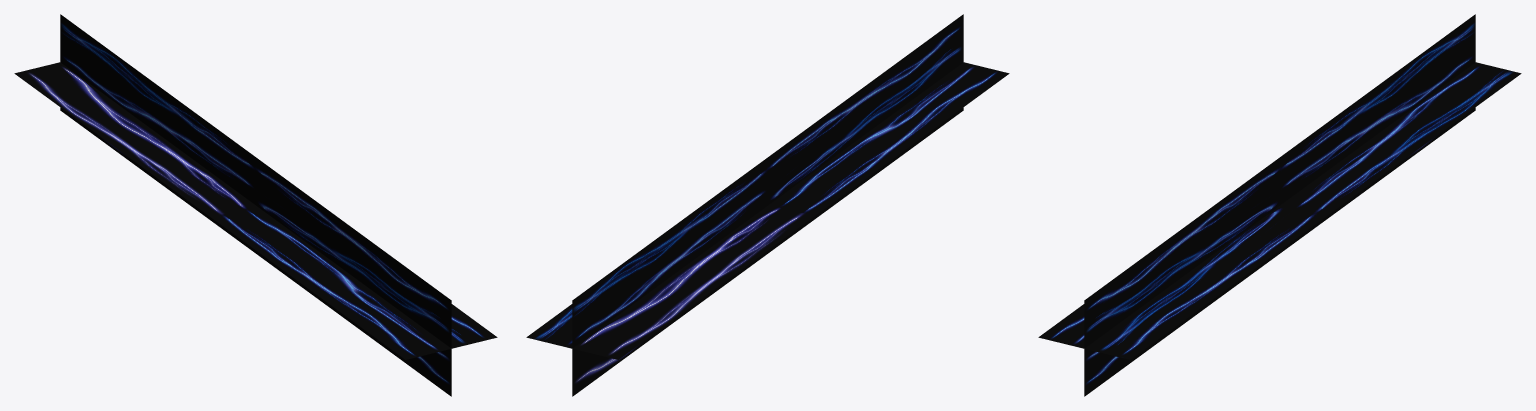
3 renders of one model, left to right at view 1: azimuth 30°, elevation 25°; view 2: azimuth 150°, elevation 25°; view 3: azimuth 330°, elevation 25°, orthographic.
Visible parts, largest first — view 1: Plane002; view 2: Plane002; view 3: Plane002.
Part boxes in pixels (<box>): Plane002: <box>14,14,497,396</box>; Plane002: <box>526,14,1009,396</box>; Plane002: <box>1038,14,1521,396</box>.
Bounding box in the file's own units: 13.59 × 13.59 × 100.
